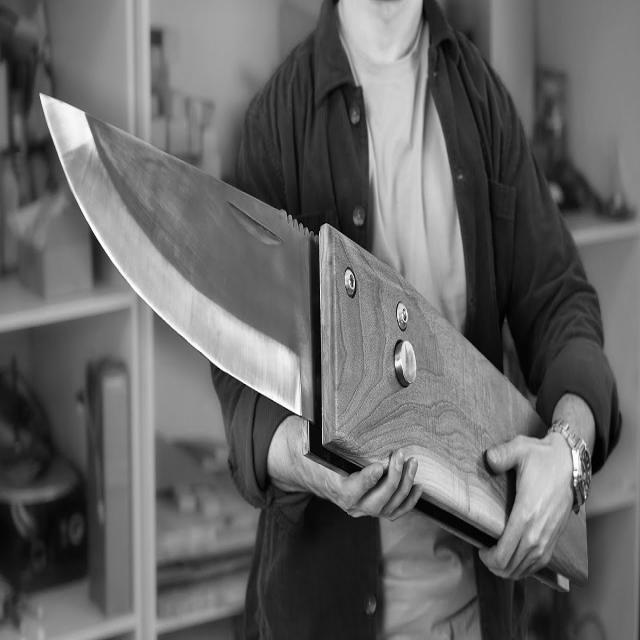Knife: (36, 66, 334, 470)
